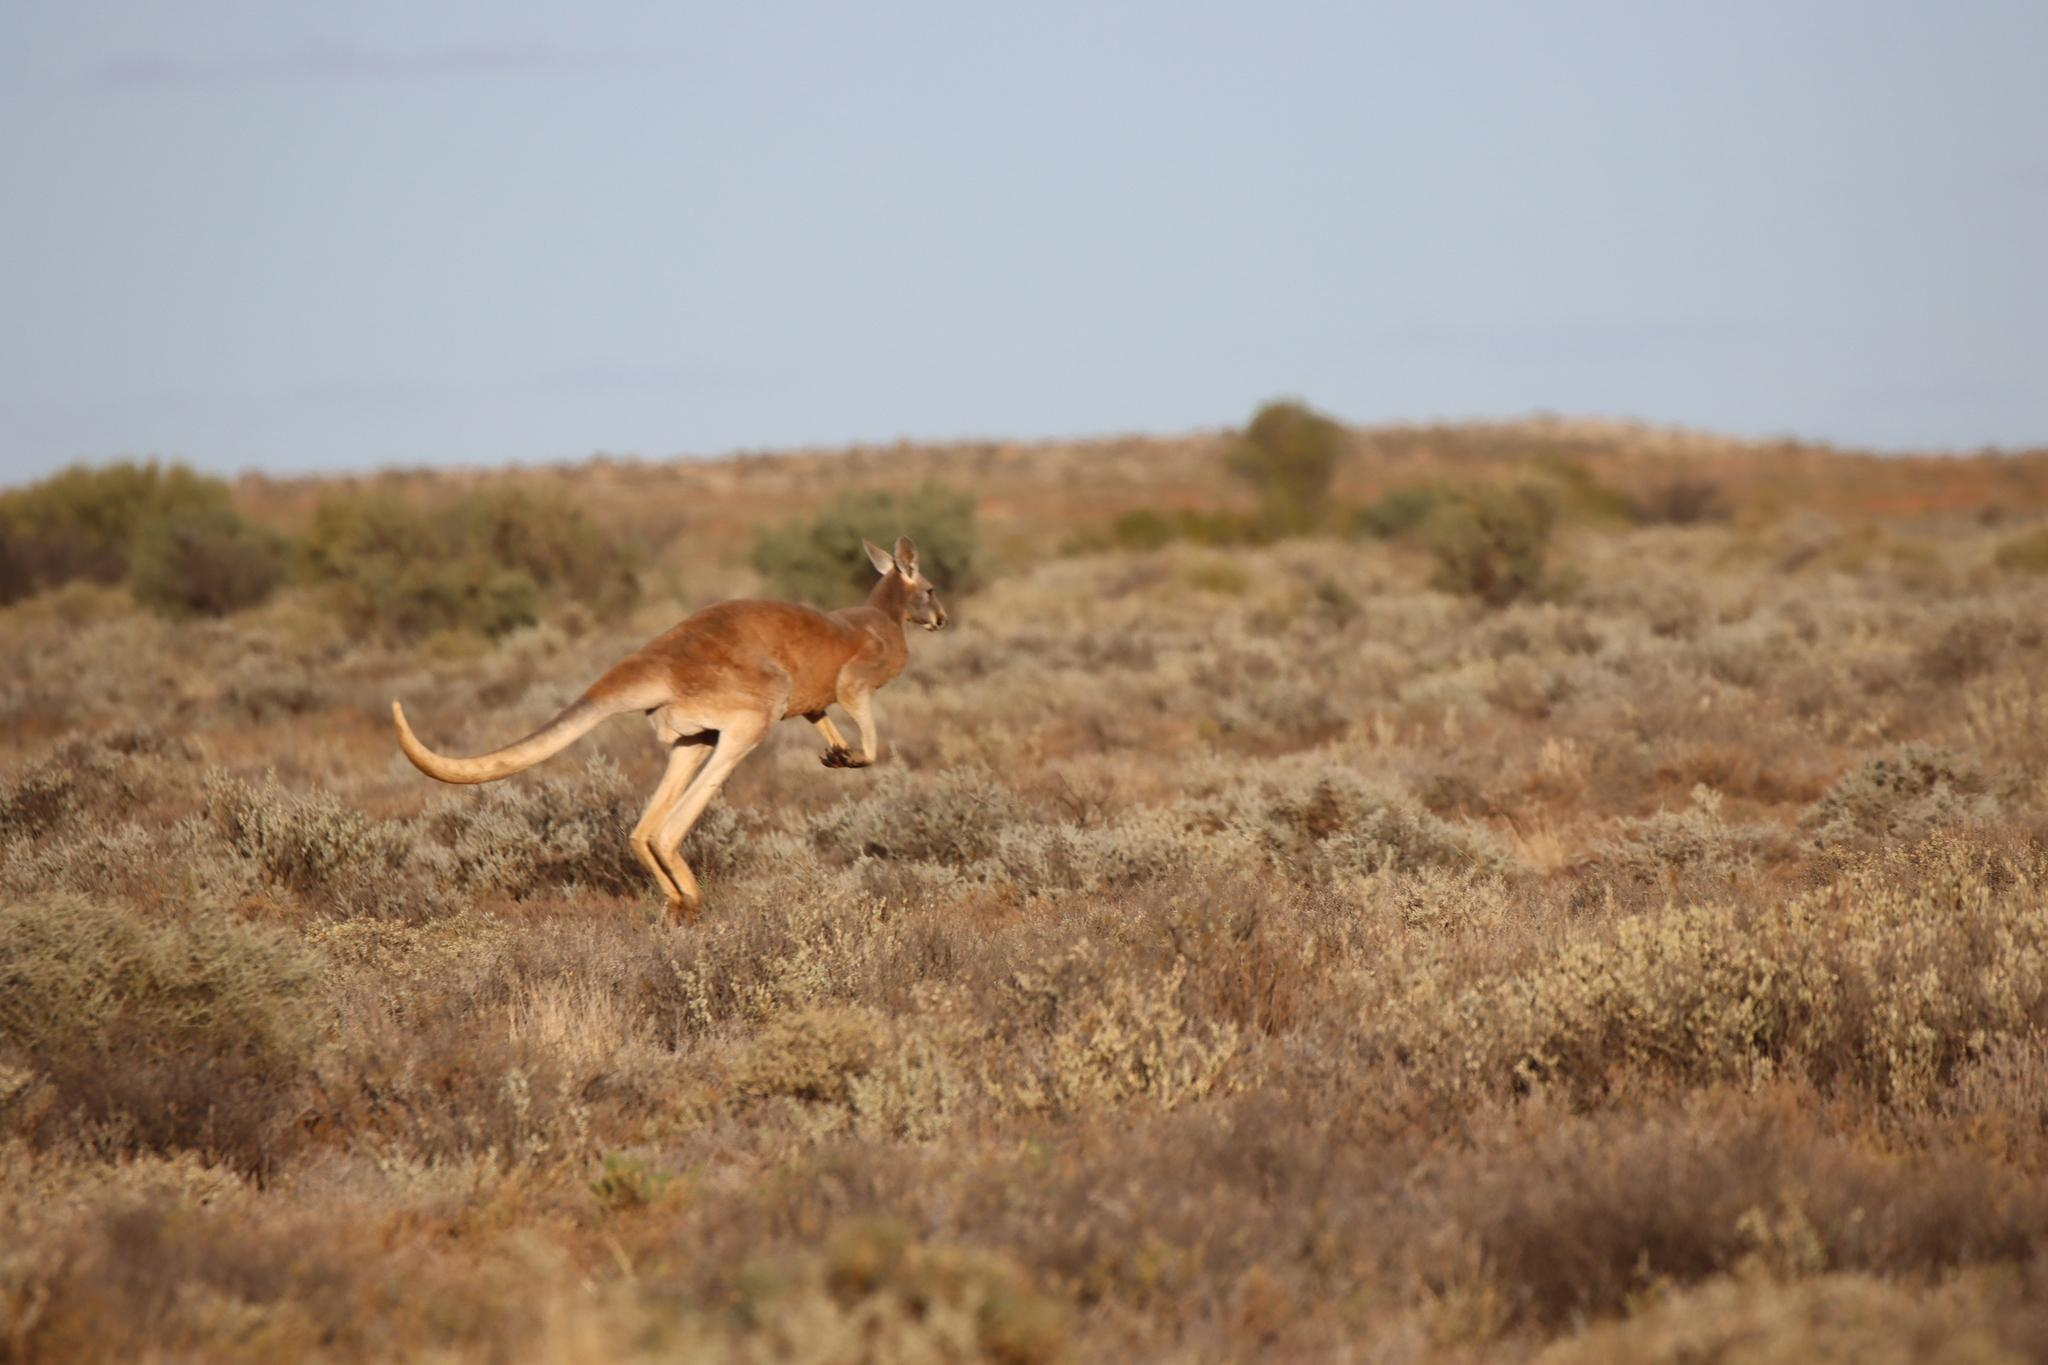Red kangaroo: (390, 536, 952, 914)
